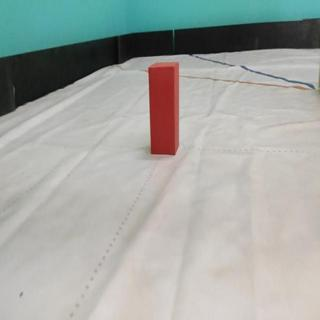redbox: (148, 61, 178, 155)
